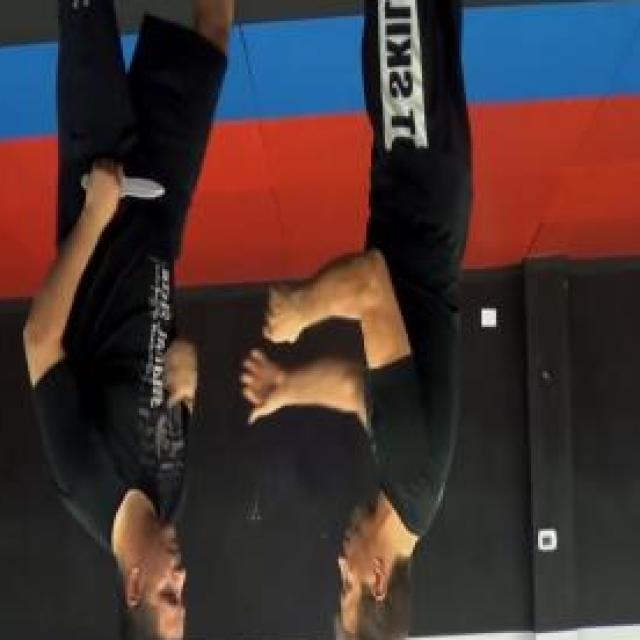knife: (76, 159, 170, 209)
